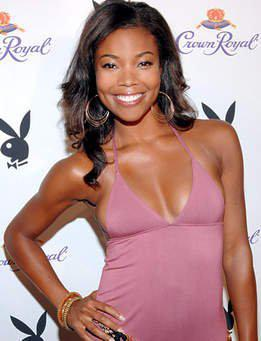Sober: (97, 32, 161, 119)
